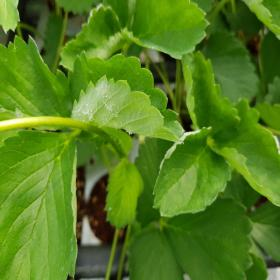Powdery Mildew Leaf: (67, 49, 188, 142), (151, 126, 232, 219), (0, 34, 73, 132), (58, 2, 132, 71)
